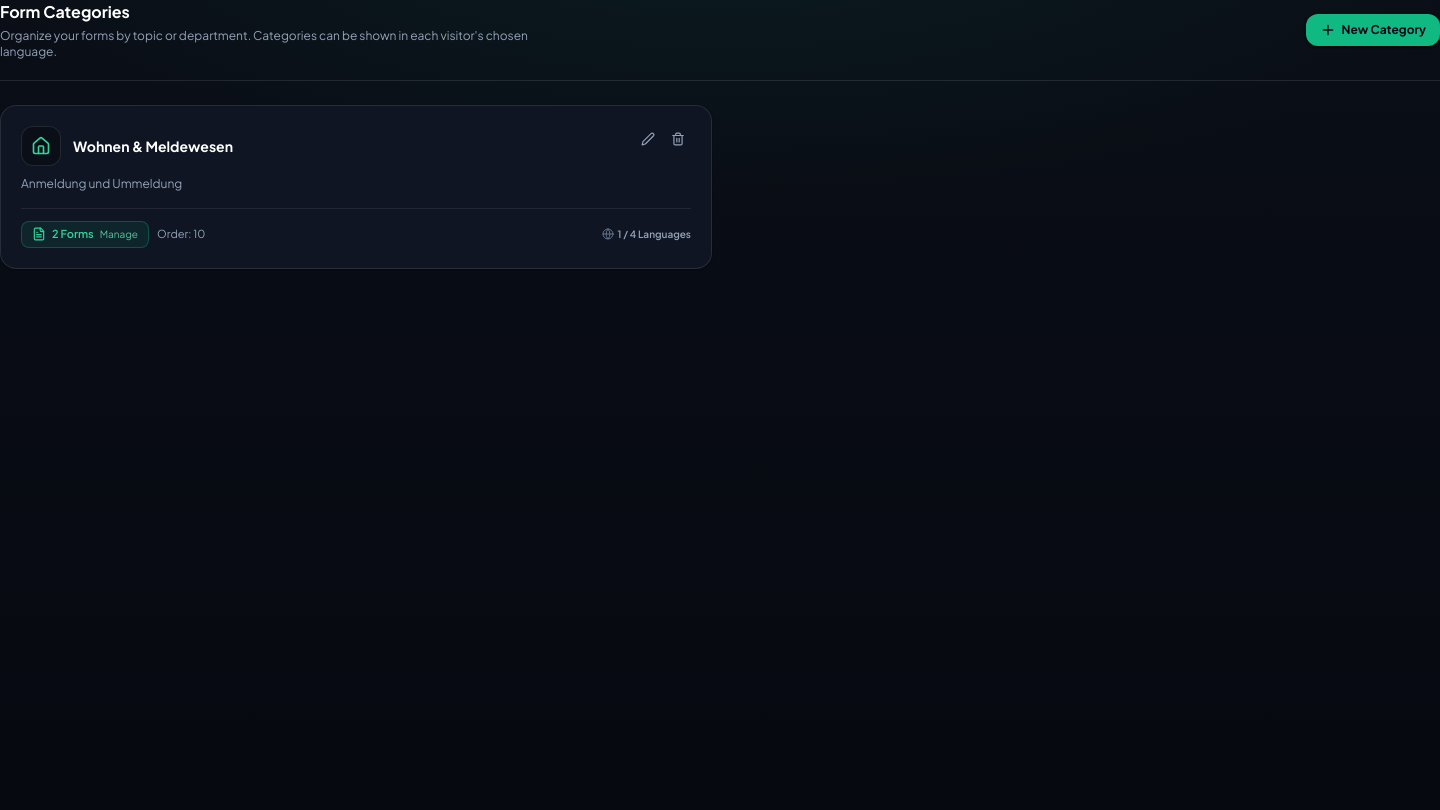
Test: Category Translation Selection Flow › relies on supported languages and allows user to pick a language from dropdown to translate
Later steps or results of the test are not shown.
Expected: the heading "Wohnen & Meldewesen" is shown, [73,136,233,156]
Expected: the text "1 / 4 Languages" is shown, [618,227,691,242]
// Click "New Category"
Click the button "New Category" at (1373, 30), box [1306,14,1439,46]
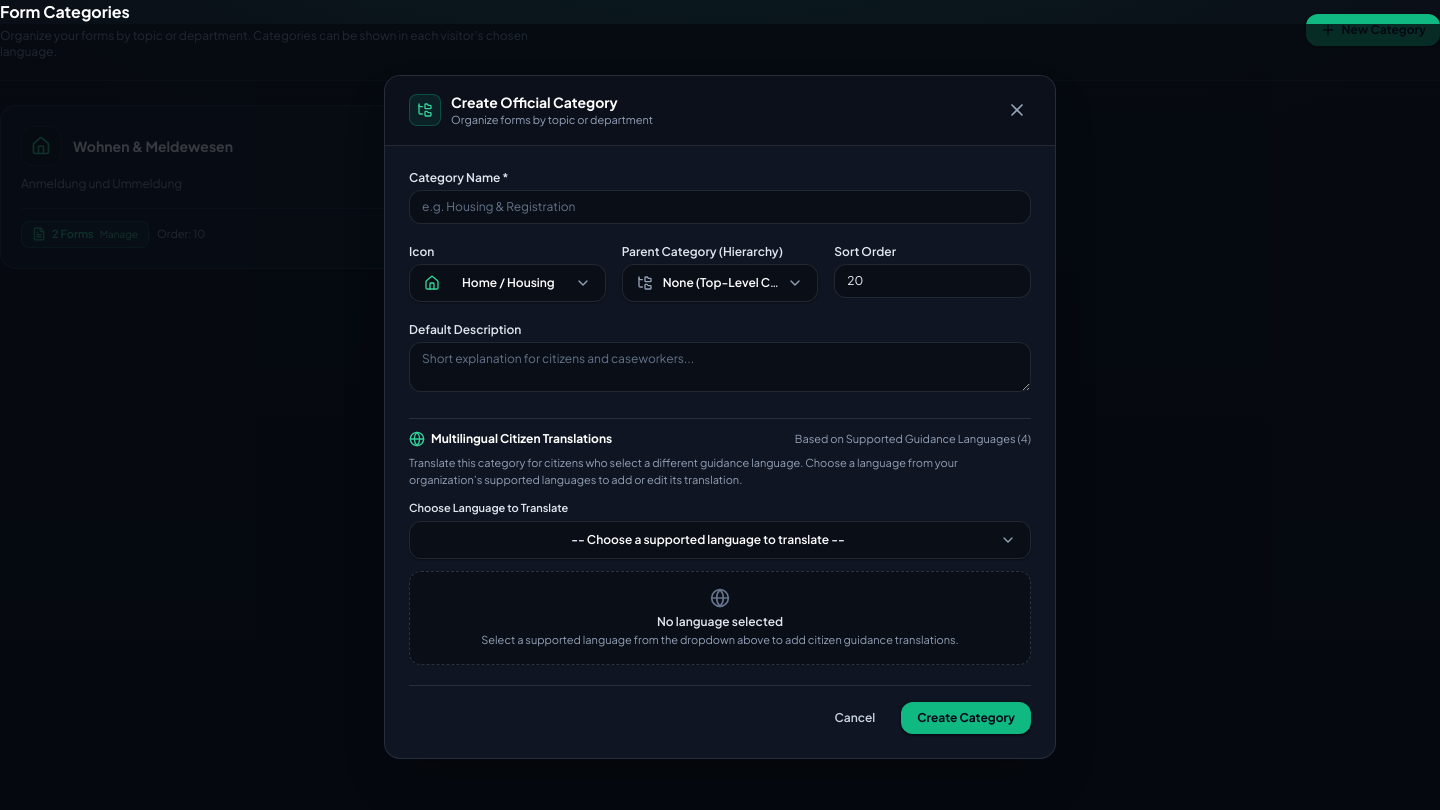
Now the heading "Create Official Category" is shown, box [451,93,618,111]
Now the text "Based on Supported Guidance Languages (4)" is shown, box [795,430,1031,447]
Now the text "No language selected" is shown, box [657,614,783,628]
// Select Arabic ("ar") from the supported languages
Select "العربية (Arabic)" in the dropdown labelled "Choose Language to Translate" at (489, 508), box [409,501,568,514]
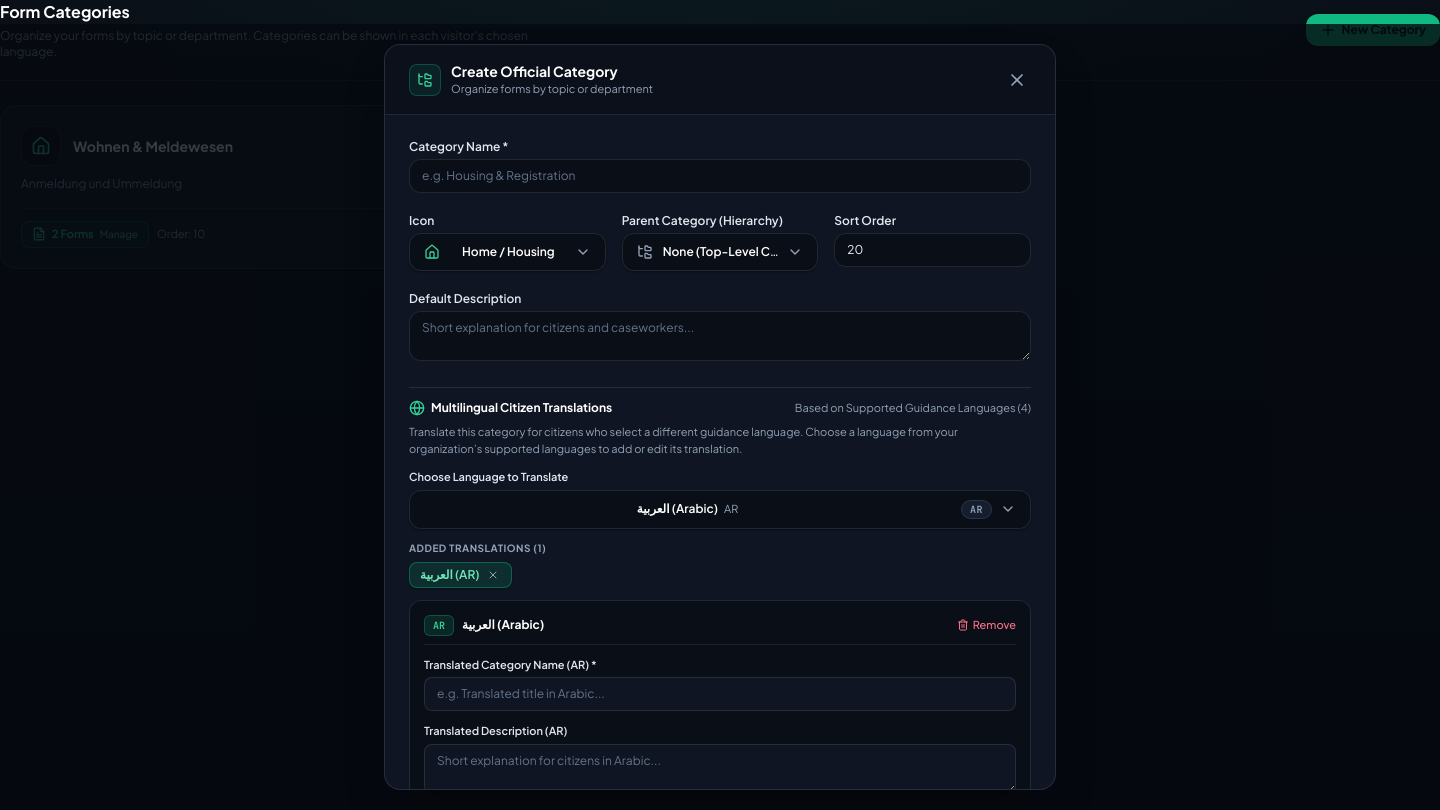
Now the text "Translated Category Name (AR) *" is shown, box [424,658,597,671]
